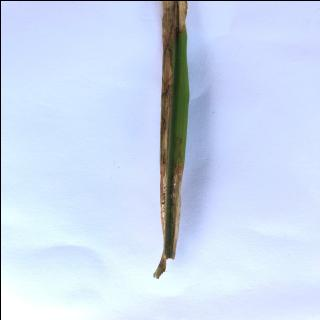Hawar-Daun: (157, 0, 176, 234), (169, 162, 187, 258), (151, 249, 168, 279)
